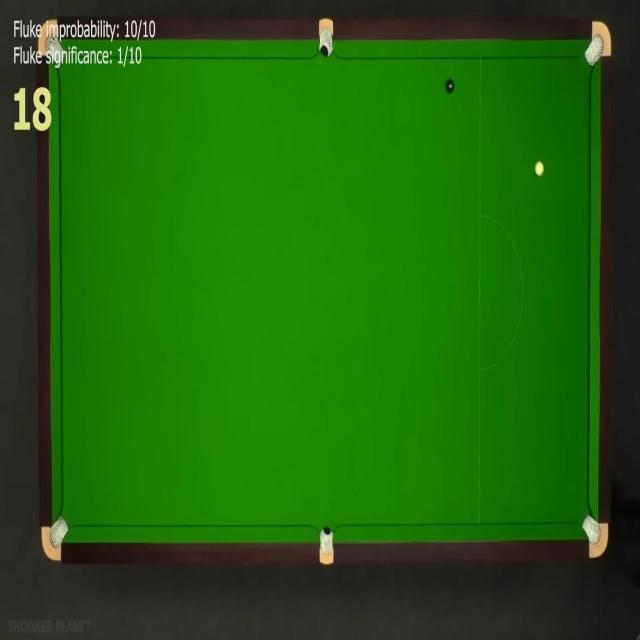Ball: (534, 160, 544, 177), (446, 79, 454, 93)
